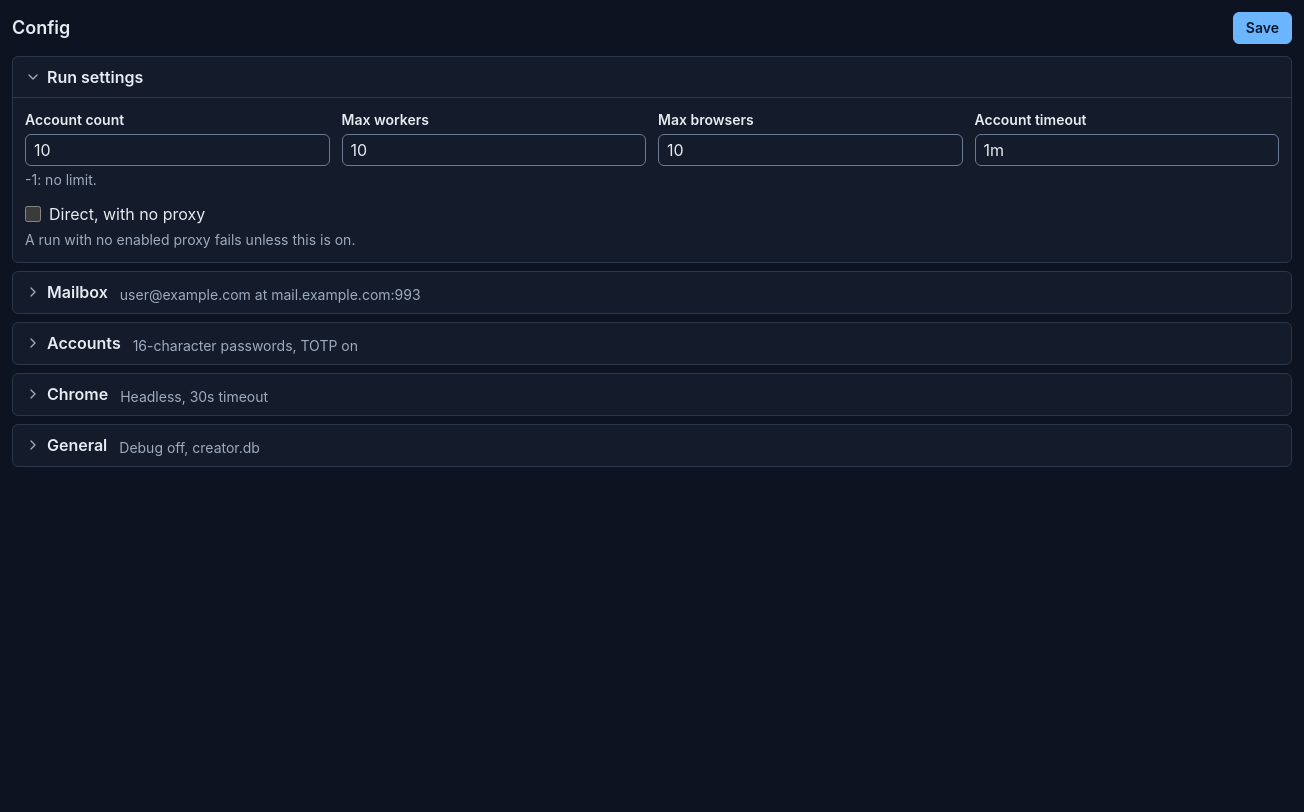
Test: RunForm › drops the saved status and the last errors on the next save
What coordinates should you click on to do the following:
click the heading "Mailbox"
I would click on:
 (223, 292)
Its box is left=25, top=282, right=421, bottom=303.
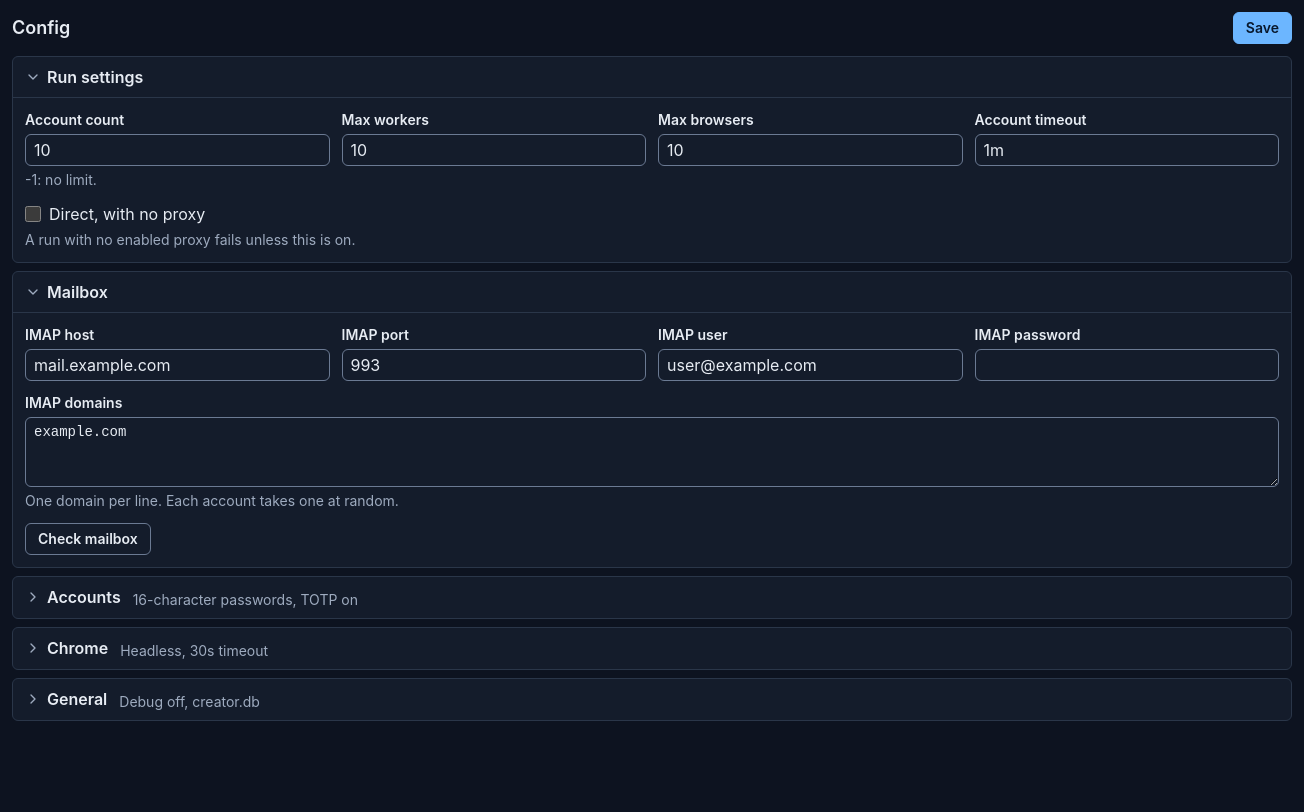
Expected: the password field labelled "IMAP password" is shown, left=974, top=349, right=1279, bottom=381
What coordinates should you click on to do the following:
click the button "Save"
I would click on:
 (1262, 28)
Its box is left=1233, top=12, right=1292, bottom=44.
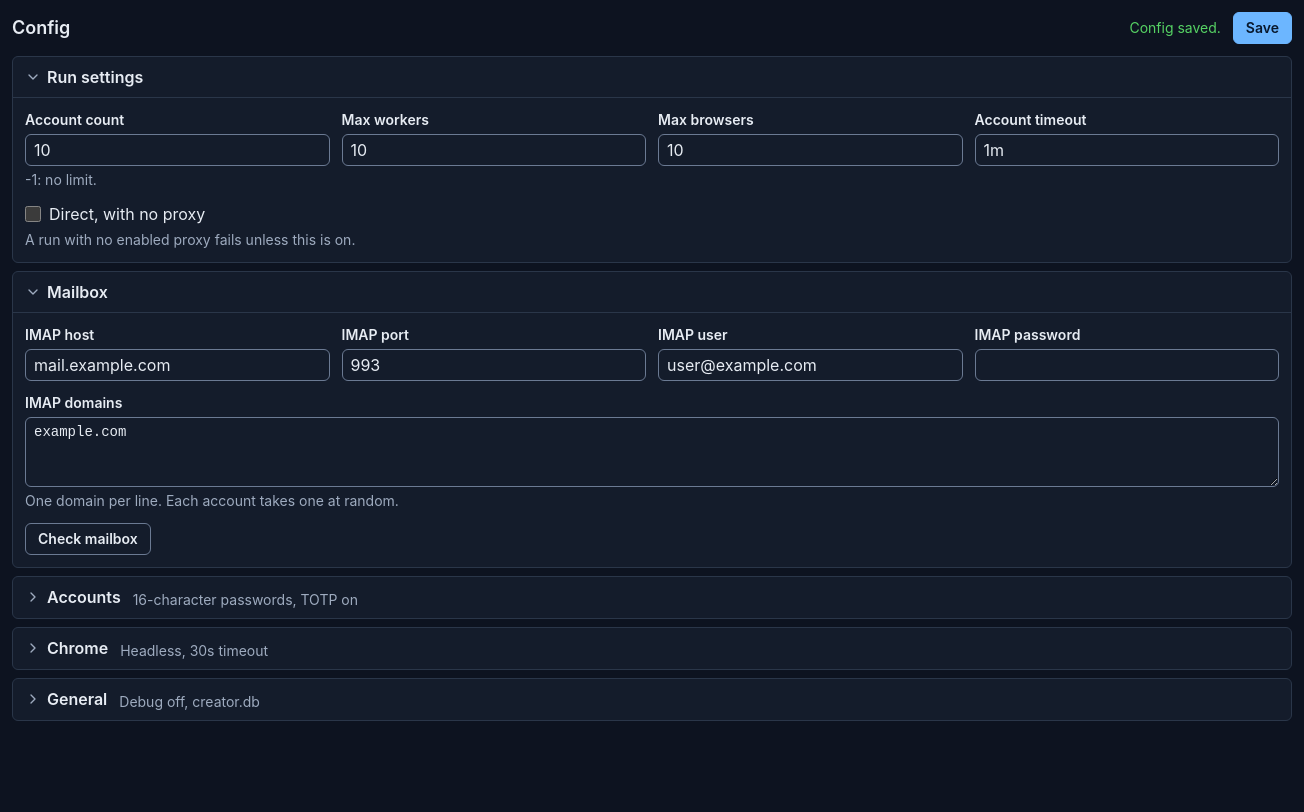
Expected: the message "Config saved." is shown, left=1129, top=18, right=1221, bottom=38
What coordinates should you click on to do the following:
click the button "Save"
I would click on:
 (1262, 28)
Its box is left=1233, top=12, right=1292, bottom=44.
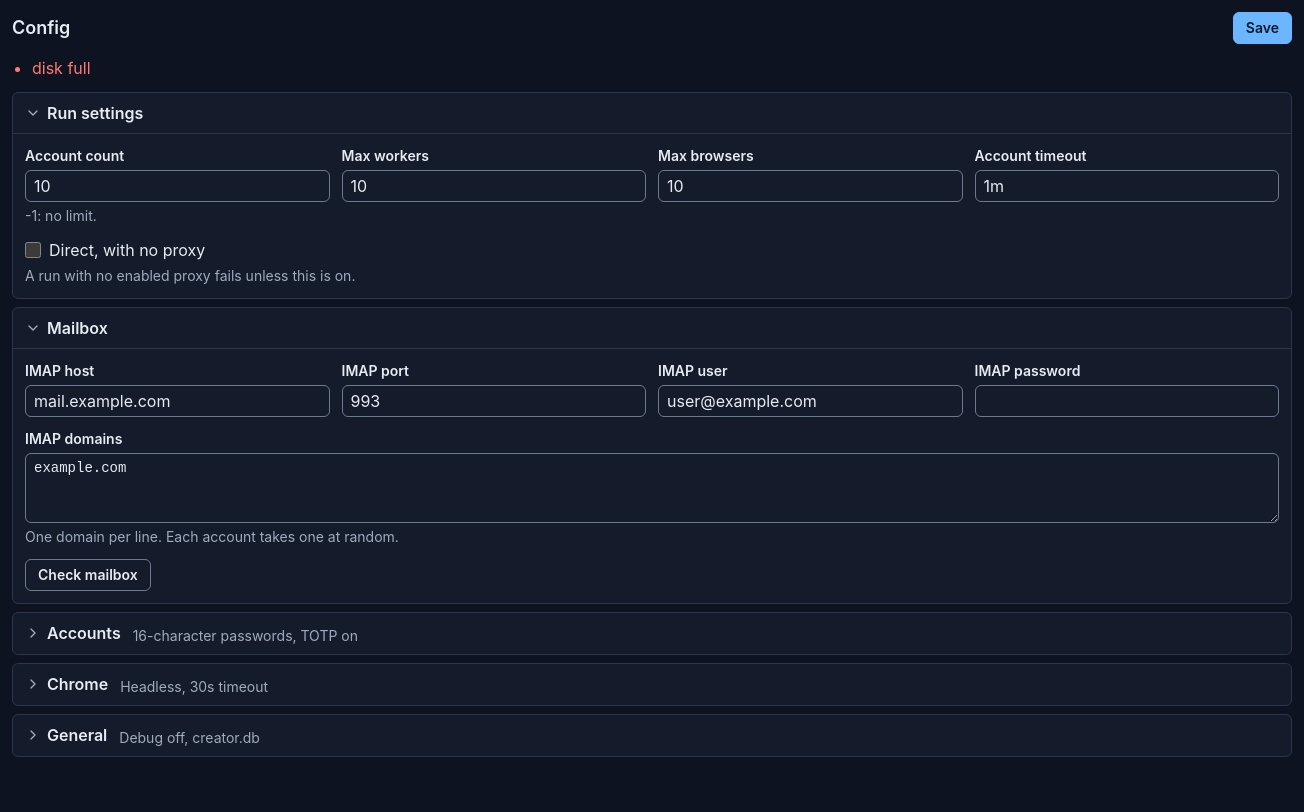
Expected: the message named "Save errors" is shown, left=32, top=58, right=90, bottom=78
Expected: the message "Config saved." is gone
What coordinates should you click on to do the following:
click the button "Save"
I would click on:
 (1262, 28)
Its box is left=1233, top=12, right=1292, bottom=44.
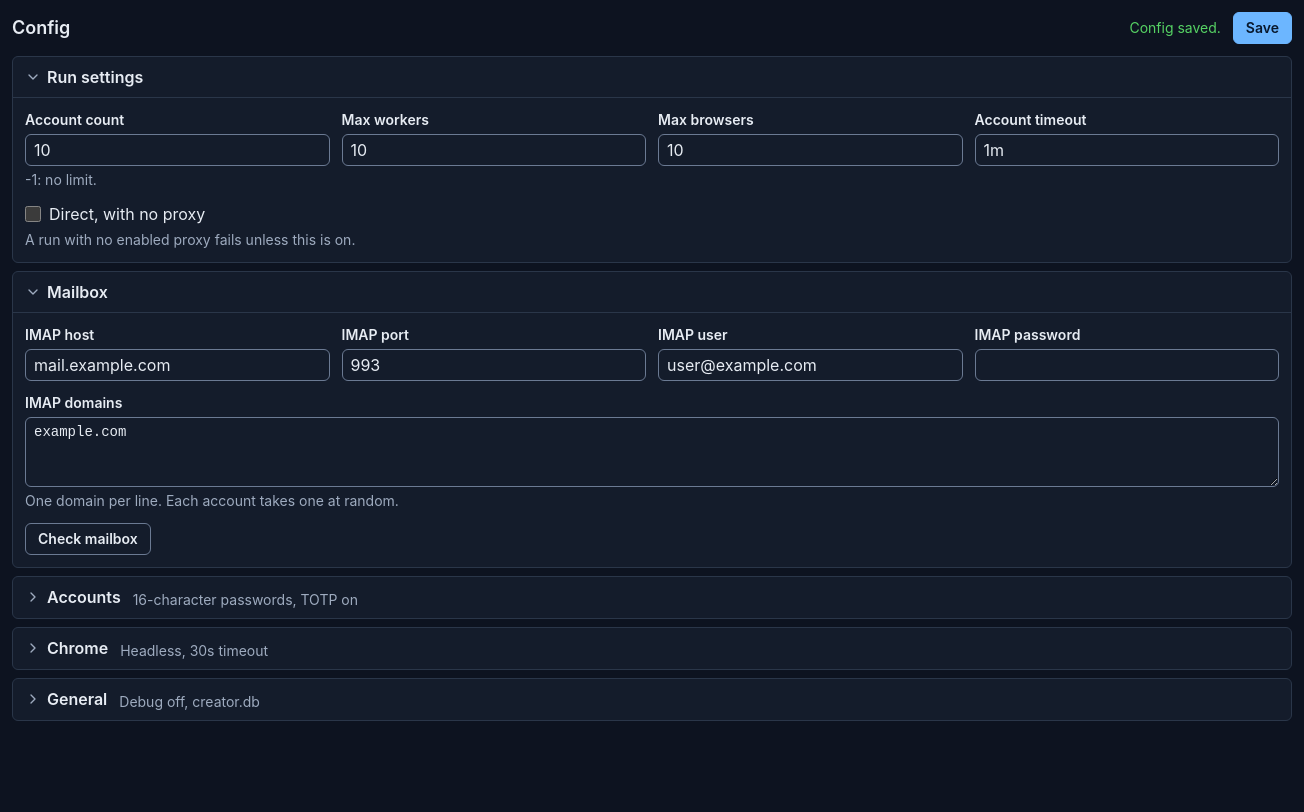
Expected: the message "Config saved." is shown, left=1129, top=18, right=1221, bottom=38
Expected: the message "disk full" is gone
